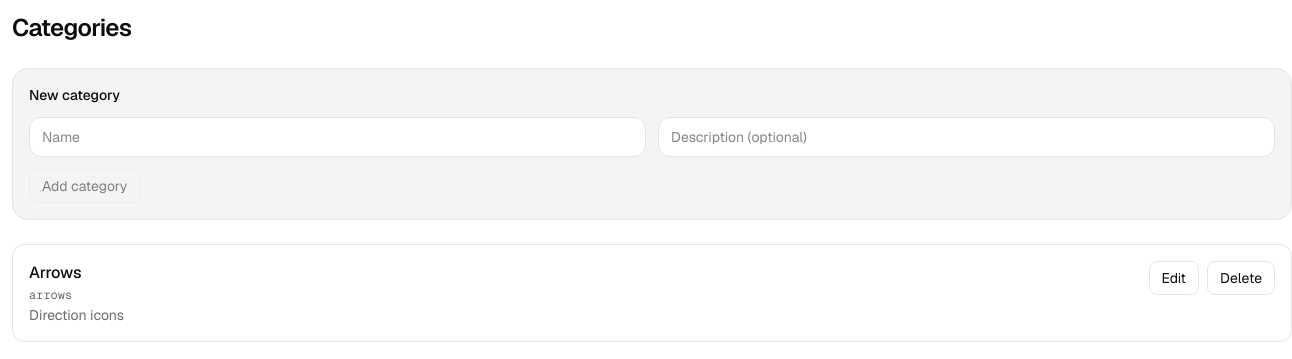
Test: <CategoriesAdmin /> › asks for confirmation before deleting, then deletes
Click the button with aria-label "Delete Arrows".
click(1241, 278)  # box top-left (1207, 261), bottom-right (1275, 295)
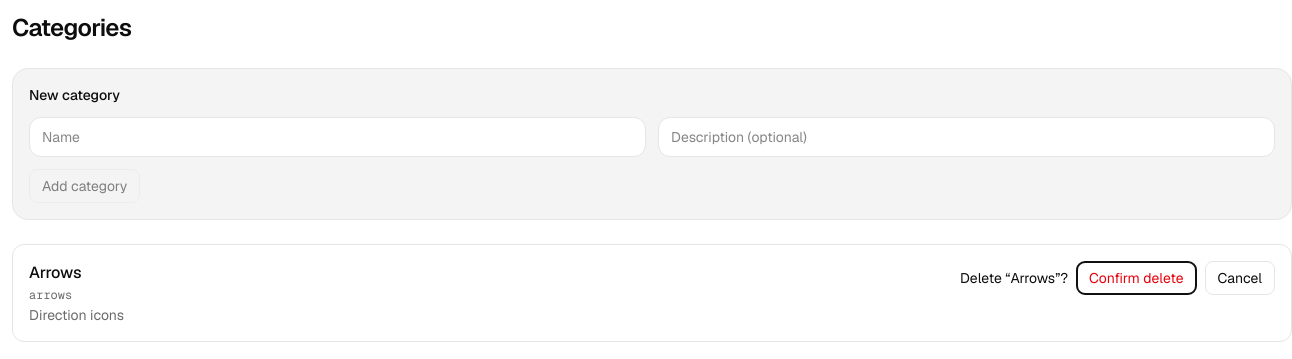
Click the button "Confirm delete".
click(1136, 278)  # box top-left (1076, 261), bottom-right (1197, 295)
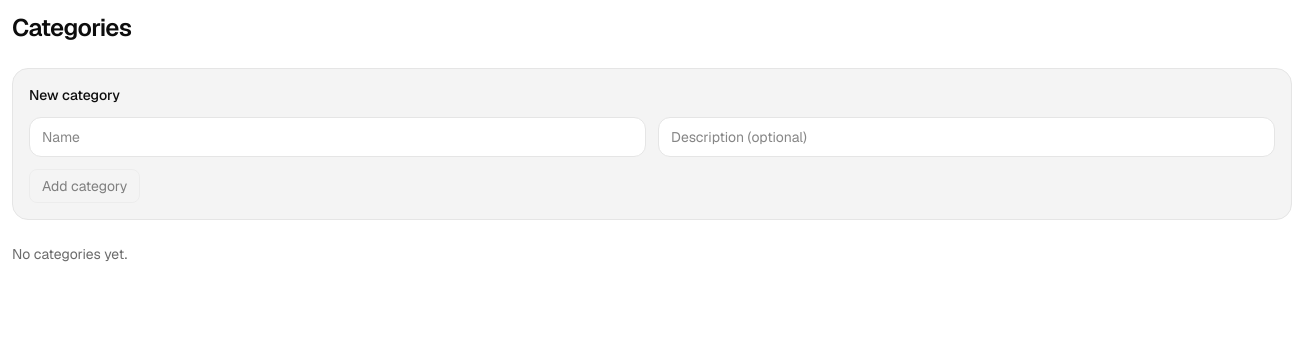
Expected: the text "No categories yet." is shown, top-left (12, 245), bottom-right (127, 263)
